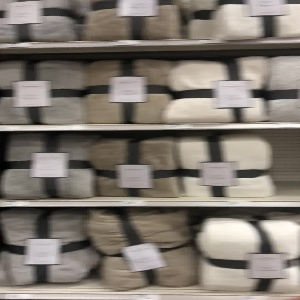void: (270, 130, 300, 200)
